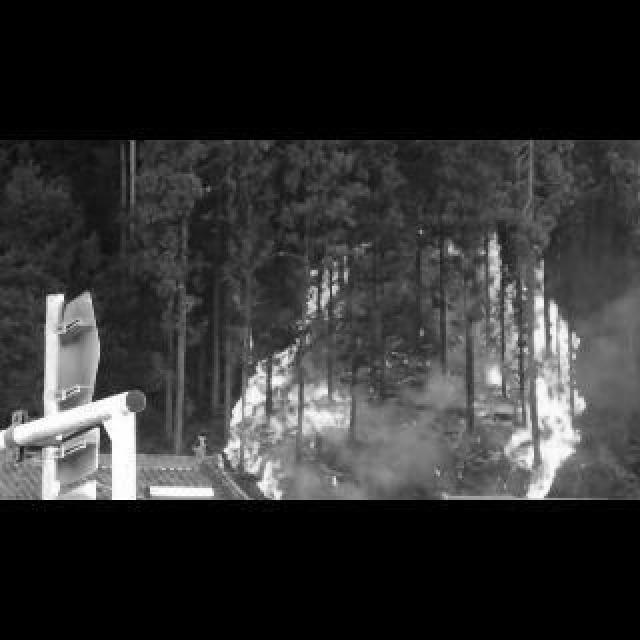Fire: (470, 232, 596, 498), (224, 256, 350, 498), (446, 244, 456, 254)
Smoke: (342, 362, 472, 492)
